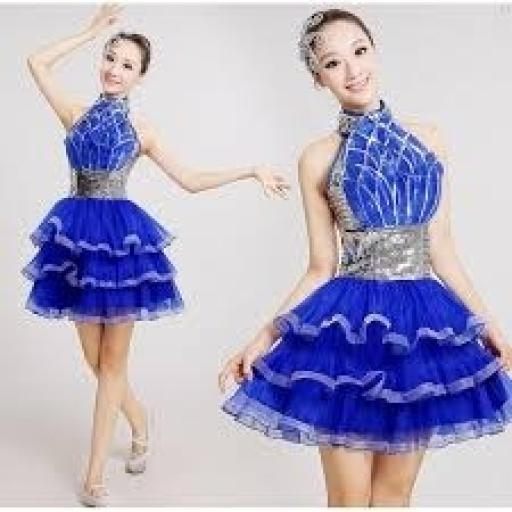dancing: (214, 7, 510, 507), (18, 0, 291, 507)
